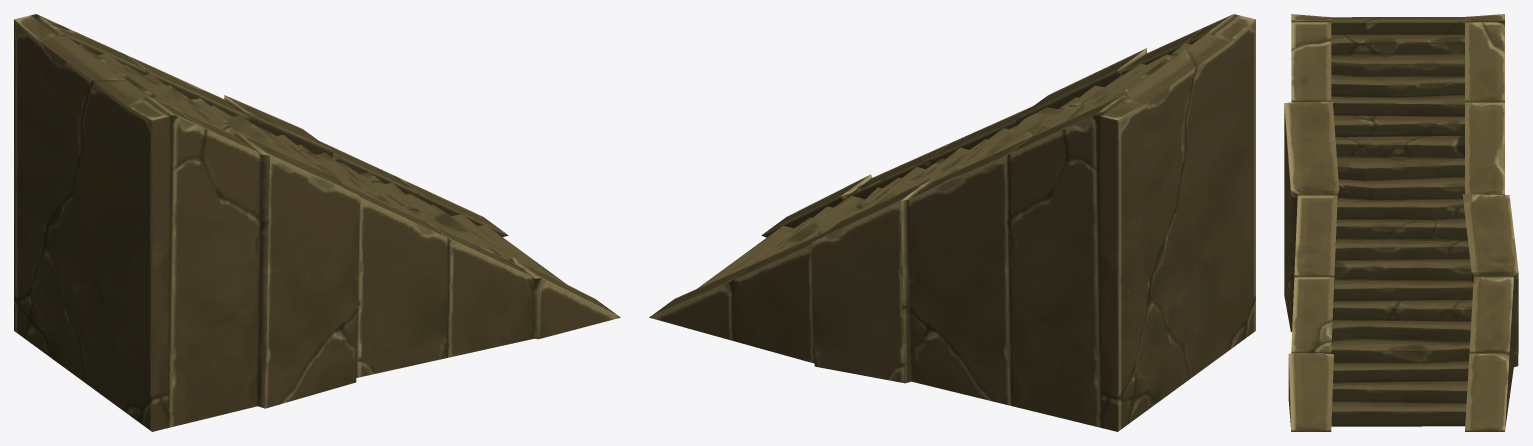
File: stair_01.fbx
3 renders of one model, left to right at view 1: azimuth 30°, elevation 25°; view 2: azimuth 150°, elevation 25°; view 3: azimuth 270°, elevation 25°, orthographic. The views are drawn at different scales.
Parts seen in each view (by area): view 1: obj1.010; view 2: obj1.010; view 3: obj1.010.
Boxes of the visible parts, x1,y1,x2,y2 form: obj1.010: (14, 14, 620, 431); obj1.010: (649, 14, 1255, 431); obj1.010: (1284, 14, 1518, 431).
Size of the model in its own units: 6 by 3.86 by 3.36.
